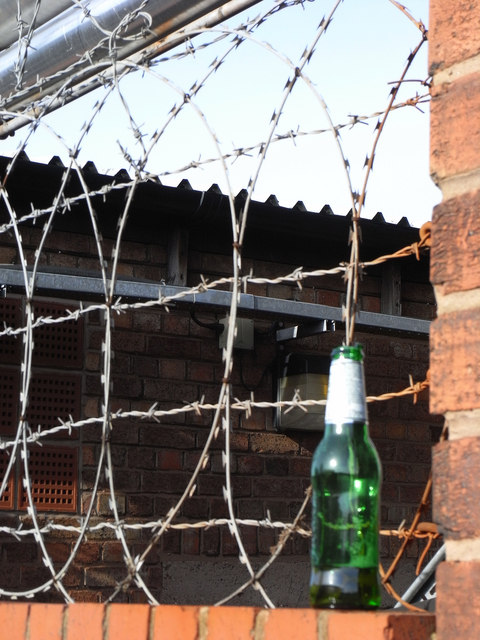beer-bottle: (307, 343, 386, 610)
